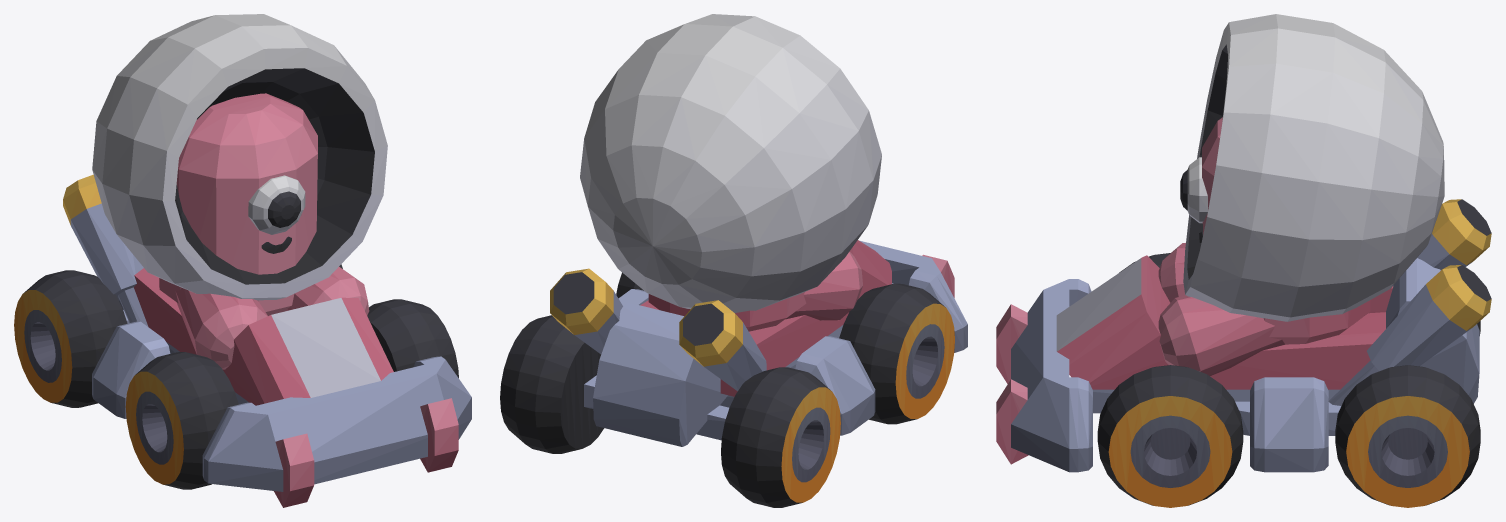
File: kart_oodi.glb
3 renders of one model, left to right at view 1: azimuth 30°, elevation 25°; view 2: azimuth 150°, elevation 25°; view 3: azimuth 270°, elevation 25°, orthographic. The views are drawn at different scales.
Parts seen in each view (by area): view 1: character, kart-oodi, wheel_rl, wheel_fl, wheel_fr; view 2: character, kart-oodi, wheel_rl, wheel_fl, wheel_rr; view 3: character, kart-oodi, wheel_fr, wheel_rr.
Part boxes in pixels (x1,y1,x2,y2): character: [92, 14, 387, 369]; kart-oodi: [63, 174, 471, 507]; wheel_rl: [14, 270, 127, 407]; wheel_fl: [125, 352, 238, 489]; wheel_fr: [367, 299, 458, 377]; character: [580, 14, 881, 331]; kart-oodi: [550, 240, 967, 446]; wheel_rl: [721, 367, 840, 507]; wheel_fl: [839, 283, 954, 424]; wheel_rr: [500, 315, 604, 453]; character: [1158, 14, 1444, 375]; kart-oodi: [996, 199, 1491, 472]; wheel_fr: [1097, 365, 1243, 507]; wheel_rr: [1335, 365, 1480, 507].
Bounding box in the file's own units: 1.27 × 1.73 × 1.86.
